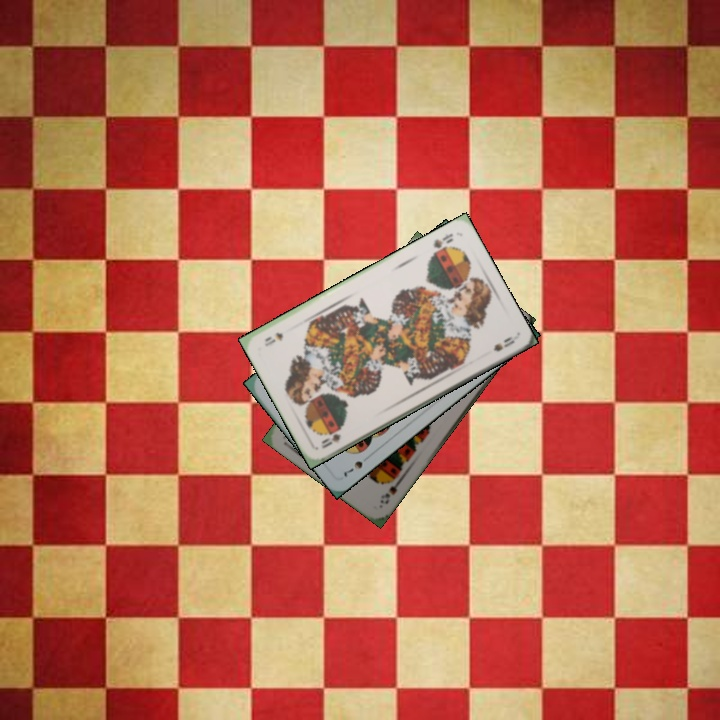S7: (340, 457, 365, 480)
S9: (376, 473, 405, 506)
SO: (429, 229, 456, 257), (317, 424, 344, 451)
